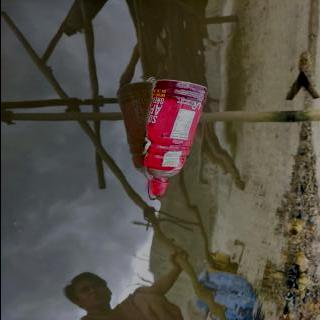bottle: (138, 78, 212, 198)
